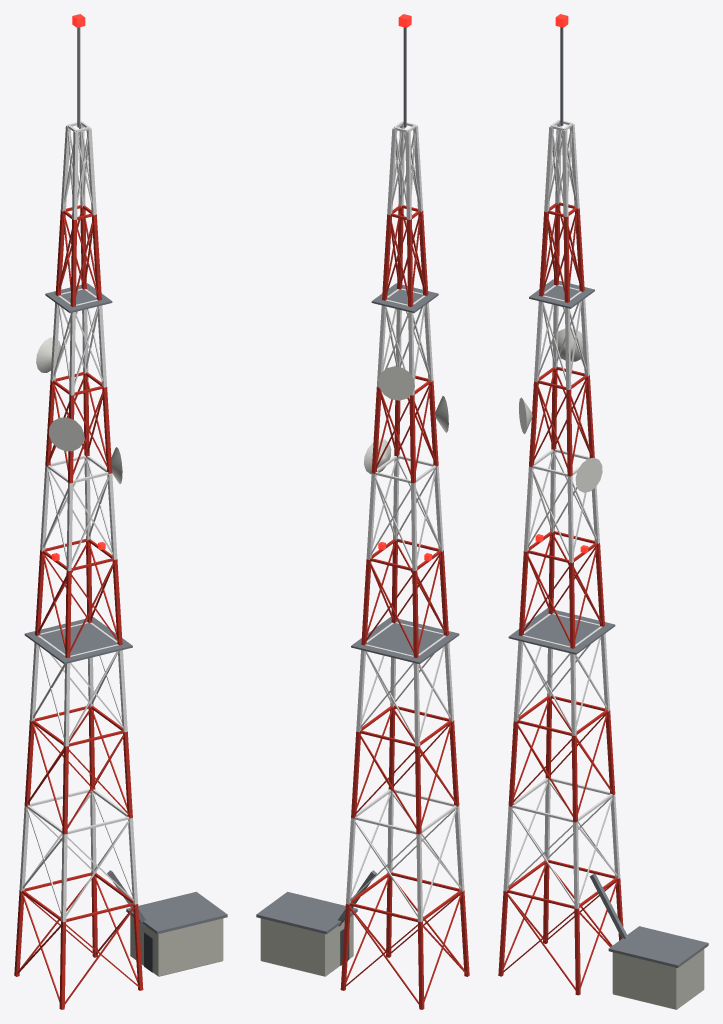
File: radio_mast.glb
The picture shows the model from 3 angles, left to right: view 1: azimuth 30°, elevation 25°; view 2: azimuth 150°, elevation 25°; view 3: azimuth 330°, elevation 25°; orthographic projection.
Visible parts, largest first — view 1: radio_mast__Body; view 2: radio_mast__Body; view 3: radio_mast__Body.
Boxes of the visible parts, left/top/right/bottom form: radio_mast__Body: left=14, top=14, right=227, bottom=1009; radio_mast__Body: left=256, top=14, right=469, bottom=1009; radio_mast__Body: left=498, top=14, right=708, bottom=1009.
Bounding box in the file's own units: 10.65 × 56.46 × 5.
